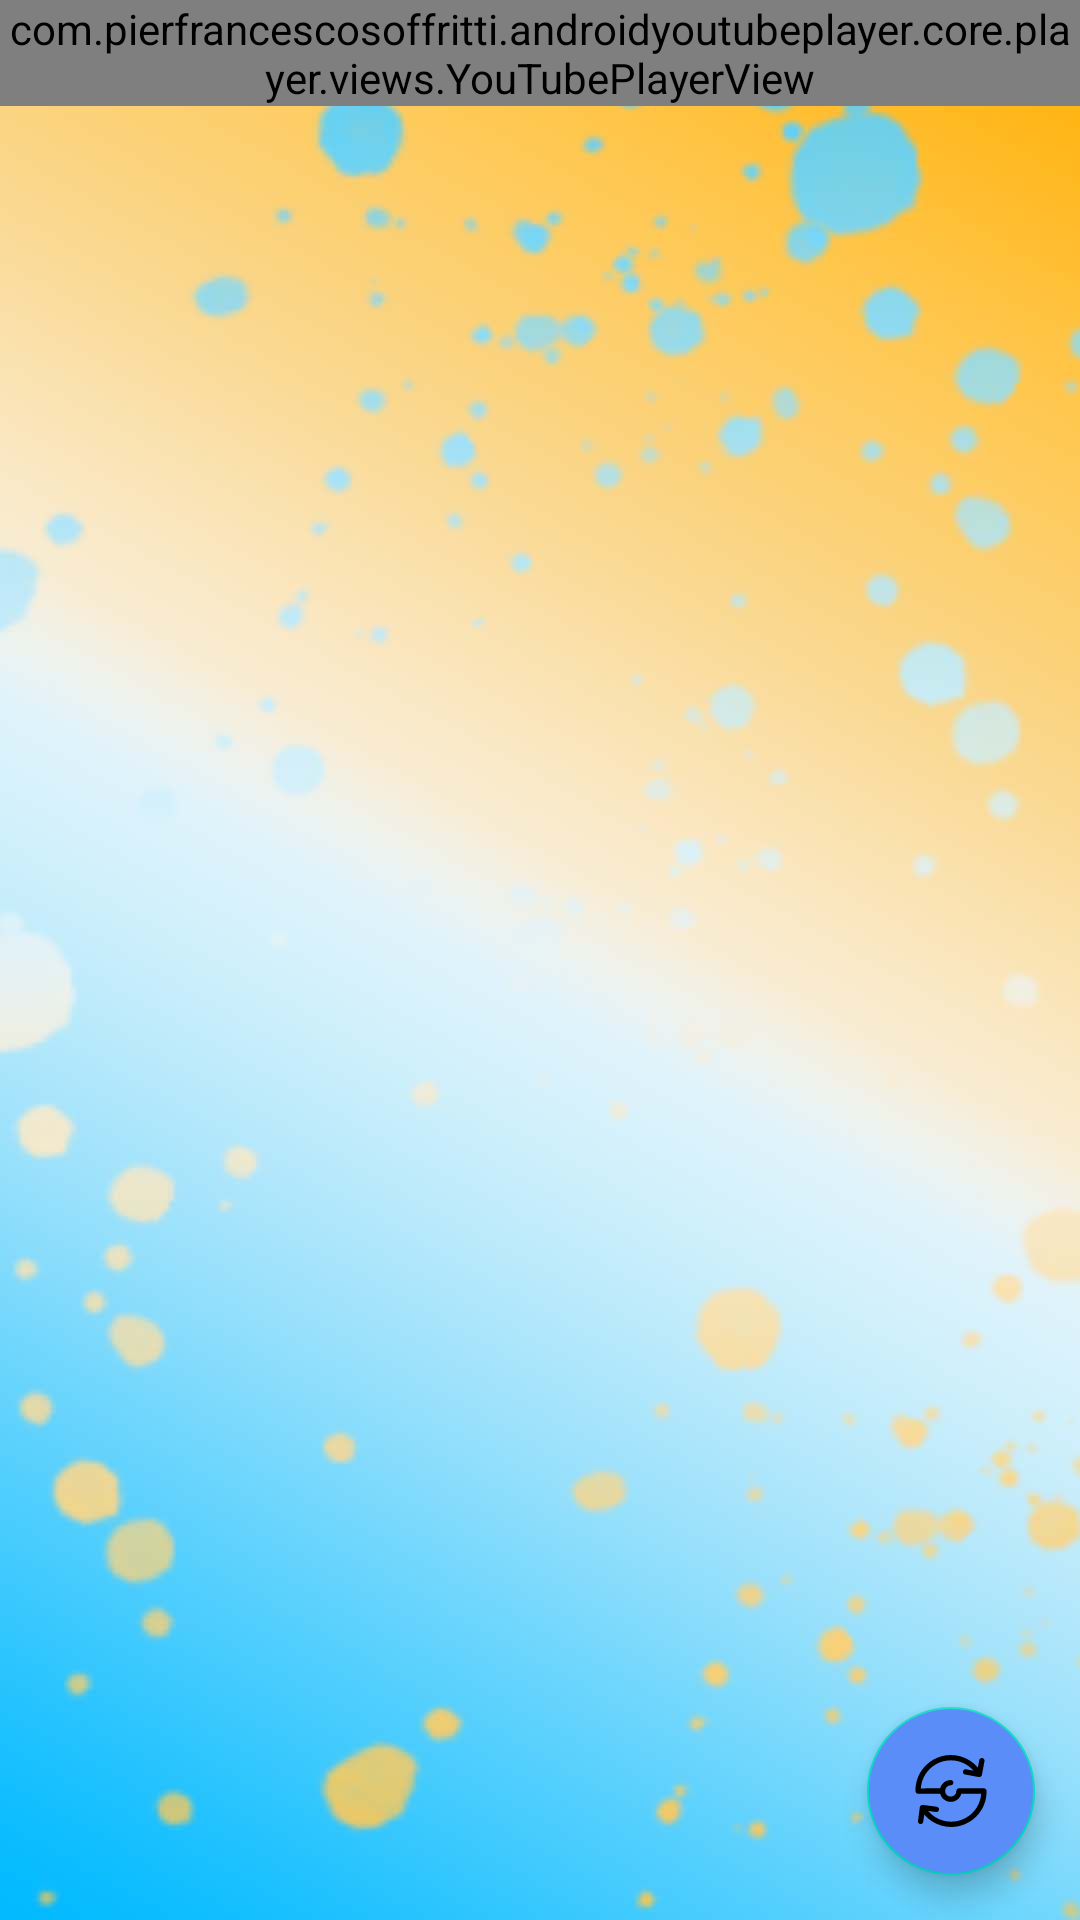

Screen size 1080w x 1920h. Icon name, then its center in pixels as [x,y]:
reload: [951,1791]
